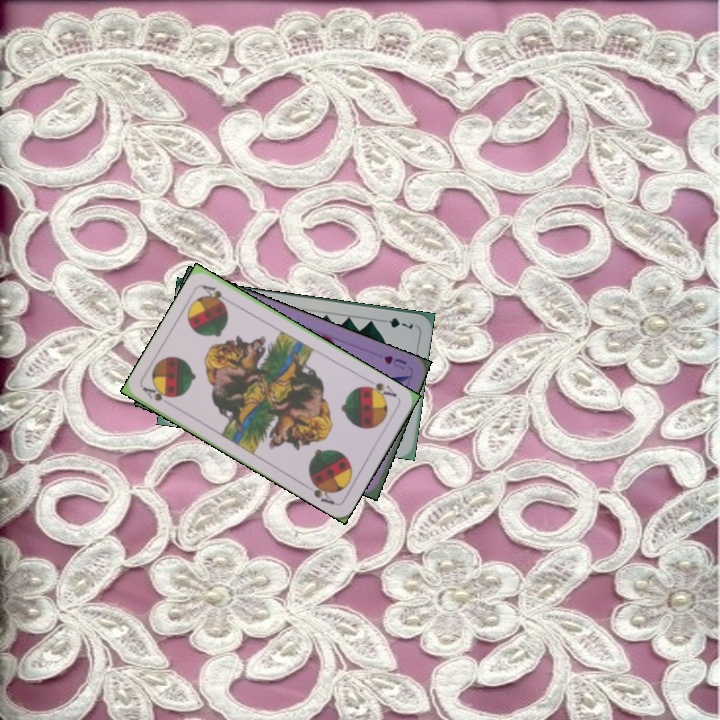G7: (376, 314, 416, 332)
HU: (380, 351, 409, 372)
SA: (360, 375, 399, 402), (139, 383, 177, 410)
